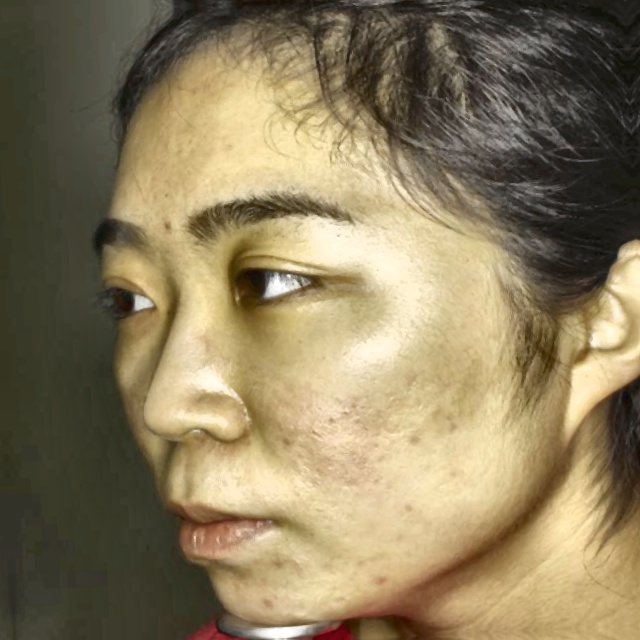comedone: (257, 595, 282, 617), (162, 213, 177, 234), (374, 574, 392, 585)
